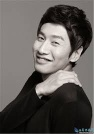male: (27, 8, 85, 96)
